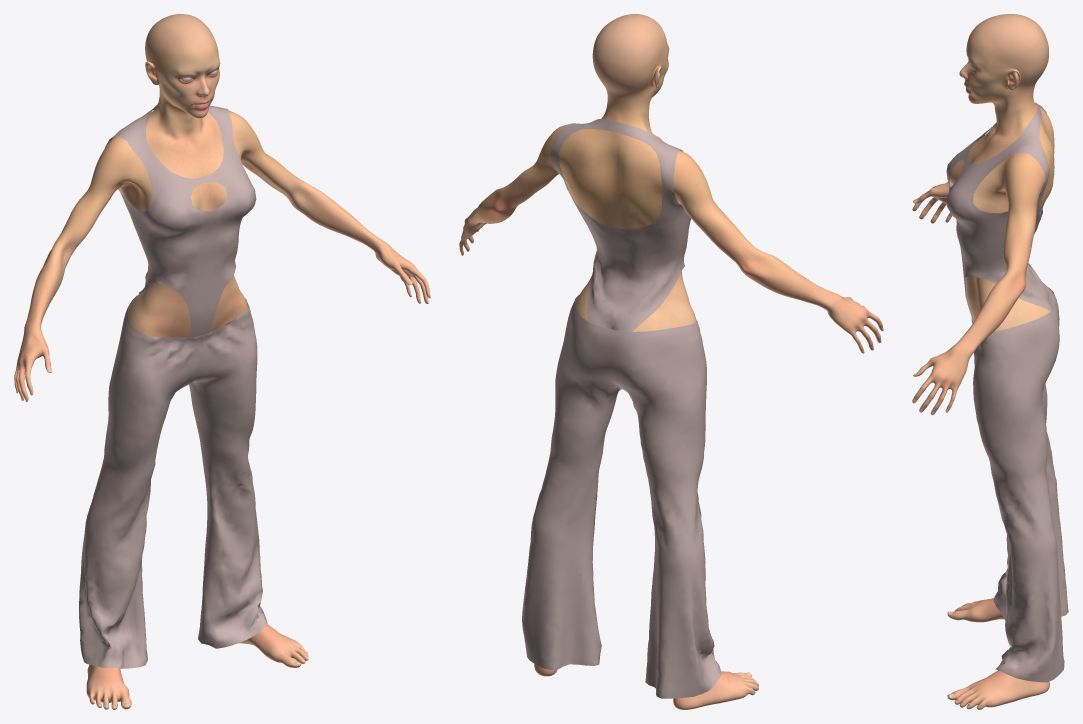
File: 3d_girlfriend_bakeTest1.fbx
3 views of the same model, side by side, from view 1: azimuth 30°, elevation 25°; view 2: azimuth 150°, elevation 25°; view 3: azimuth 270°, elevation 25° (orthographic). The views are drawn at different scales.
Visible parts, largest first — view 1: HG_Body, Shape2D_1500569, Shape2D_1500568, Shape2D_209542, Shape2D_209544, Shape2D_1546031, Shape2D_1546032, Shape2D_45031; view 2: HG_Body, Shape2D_1546031, Shape2D_1546032, Shape2D_45031, Shape2D_45029, Shape2D_1500569; view 3: HG_Body, Shape2D_1500568, Shape2D_1546031, Shape2D_209544, Shape2D_45029, Shape2D_1546032, Shape2D_1500569, Shape2D_209542, Shape2D_45031.
Boxes of the visible parts, bbox=[...] form: HG_Body: bbox=[14, 14, 430, 709]; Shape2D_1500569: bbox=[79, 335, 203, 668]; Shape2D_1500568: bbox=[193, 306, 267, 648]; Shape2D_209542: bbox=[132, 140, 212, 336]; Shape2D_209544: bbox=[200, 122, 256, 335]; Shape2D_1546031: bbox=[189, 298, 249, 648]; Shape2D_1546032: bbox=[79, 295, 147, 664]; Shape2D_45031: bbox=[105, 104, 157, 294]; HG_Body: bbox=[459, 14, 883, 709]; Shape2D_1546031: bbox=[522, 294, 621, 669]; Shape2D_1546032: bbox=[607, 322, 702, 698]; Shape2D_45031: bbox=[611, 122, 686, 331]; Shape2D_45029: bbox=[550, 118, 623, 328]; Shape2D_1500569: bbox=[692, 320, 721, 696]; HG_Body: bbox=[912, 14, 1054, 709]; Shape2D_1500568: bbox=[971, 318, 1053, 682]; Shape2D_1546031: bbox=[987, 301, 1064, 681]; Shape2D_209544: bbox=[946, 146, 1010, 320]; Shape2D_45029: bbox=[992, 107, 1052, 311]; Shape2D_1546032: bbox=[1042, 287, 1068, 616]; Shape2D_1500569: bbox=[971, 317, 1010, 620]; Shape2D_209542: bbox=[946, 127, 991, 320]; Shape2D_45031: bbox=[1026, 102, 1053, 308].
Size of the model in its own units: 111 by 170 by 37.52.
